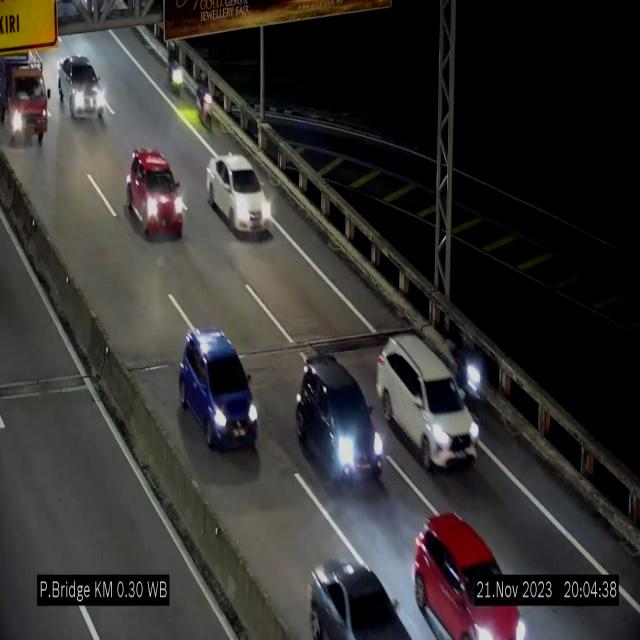Car: (376, 332, 479, 470), (414, 512, 520, 640), (295, 356, 387, 490), (180, 328, 258, 448), (207, 154, 272, 235), (127, 148, 183, 239), (59, 54, 107, 124)
Motorcycle: (454, 336, 480, 401), (194, 66, 213, 134), (162, 34, 182, 98)
